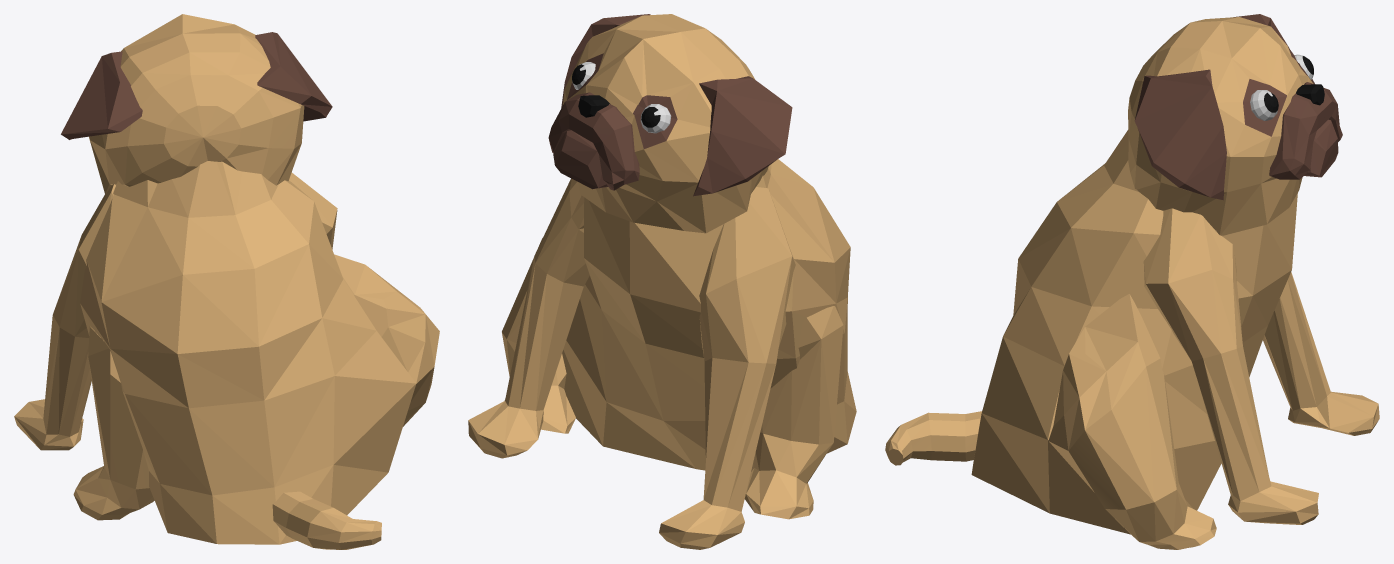
3 renders of one model, left to right at view 1: azimuth 30°, elevation 25°; view 2: azimuth 150°, elevation 25°; view 3: azimuth 270°, elevation 25°, orthographic. The views are drawn at different scales.
Visible parts, largest first — view 1: node_MeshObject-725854208-PolyPaper23; view 2: node_MeshObject-725854208-PolyPaper23; view 3: node_MeshObject-725854208-PolyPaper23.
Boxes of the visible parts, x1,y1,x2,y2 form: node_MeshObject-725854208-PolyPaper23: (14, 14, 439, 549); node_MeshObject-725854208-PolyPaper23: (468, 14, 856, 549); node_MeshObject-725854208-PolyPaper23: (885, 14, 1379, 549).
Bounding box in the file's own units: 0.3371 × 0.4543 × 0.4332.
